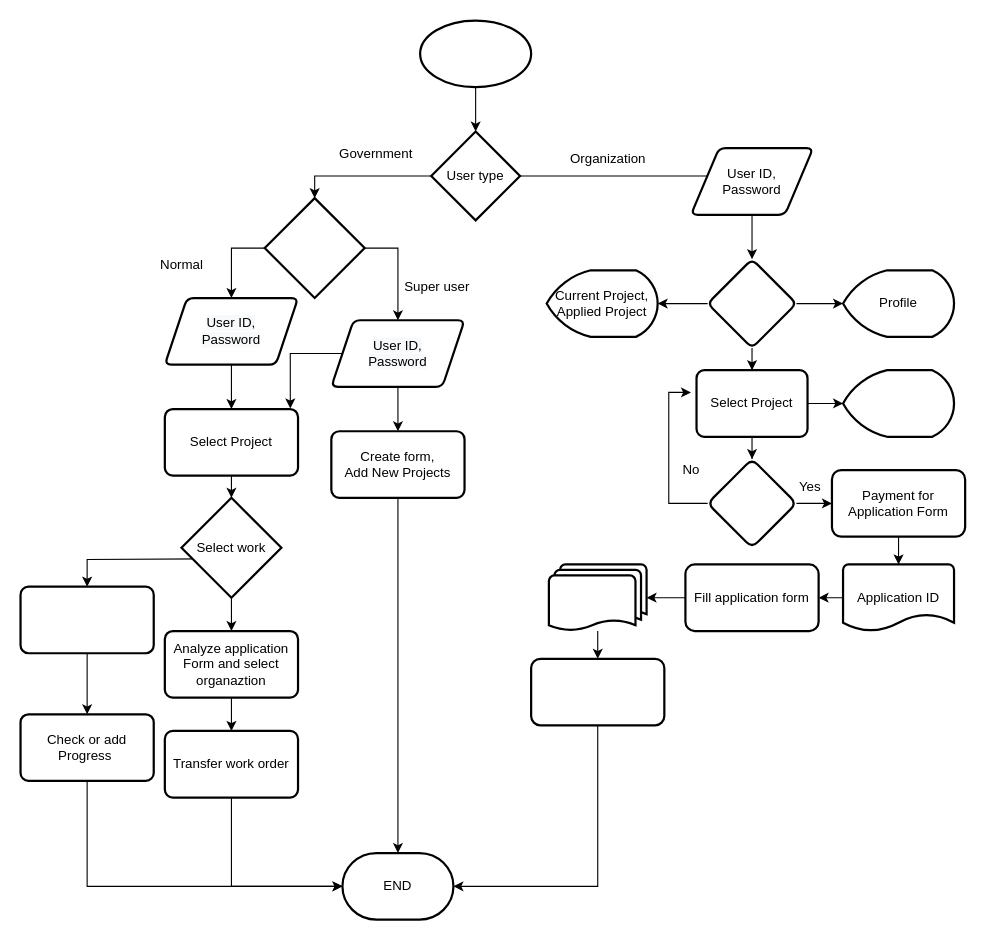
The diagram is 985 pixels wide and 939 high, and some of its shapes have lost their labels. The shapes that lost their labels are listed below. From the top down, each one's box as (x1, y1, x2, y2) in pixels, then its label:
(418, 19, 532, 88): START
(263, 196, 365, 299): Employe type
(706, 258, 797, 349): Select tab
(841, 369, 955, 437): Project Detail
(706, 457, 797, 548): Apply for Form
(547, 563, 647, 632): Attache document
(19, 585, 154, 654): Track Project
(529, 657, 665, 726): Submit Application Form with Document
